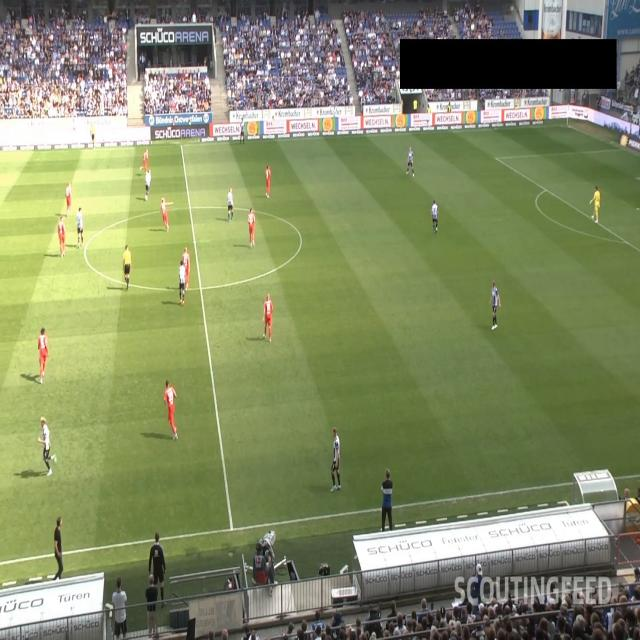ball: (434, 226, 438, 232)
